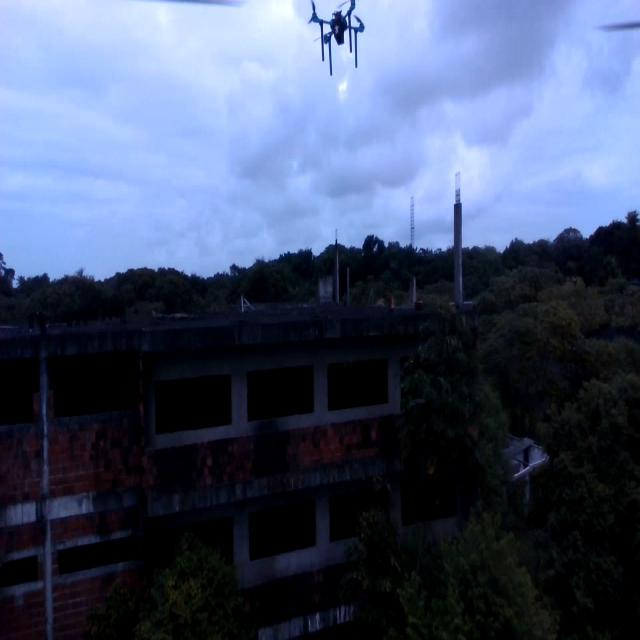-uav-: (303, 0, 370, 80)
